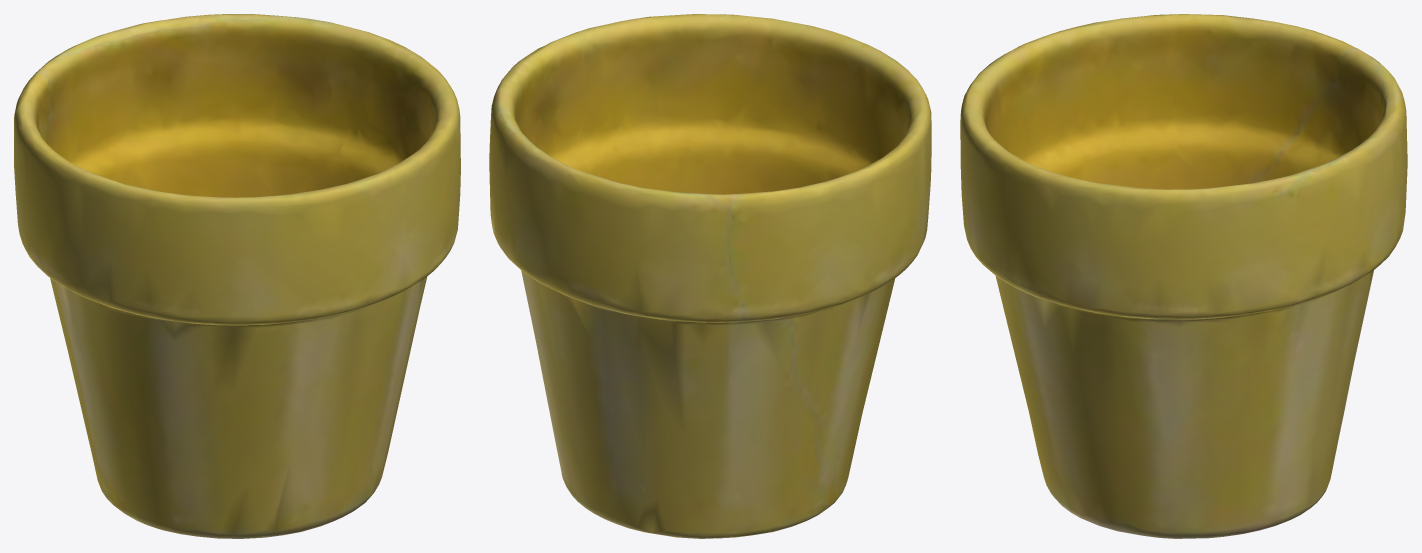
The model's file is Pennington_Electric_Pot_Cabana_4-high.glb.
3 renders of one model, left to right at view 1: azimuth 30°, elevation 25°; view 2: azimuth 150°, elevation 25°; view 3: azimuth 270°, elevation 25°, orthographic.
Parts seen in each view (by area): view 1: Pennington_Electric_Pot_Cabana_4; view 2: Pennington_Electric_Pot_Cabana_4; view 3: Pennington_Electric_Pot_Cabana_4.
Boxes of the visible parts, x1=… form: Pennington_Electric_Pot_Cabana_4: x1=14, y1=14, x2=460, y2=538; Pennington_Electric_Pot_Cabana_4: x1=489, y1=14, x2=931, y2=538; Pennington_Electric_Pot_Cabana_4: x1=960, y1=14, x2=1407, y2=538.
Bounding box in the file's own units: 0.1036 × 0.0978 × 0.1034.
Materials: 1 (1 with a texture image).
